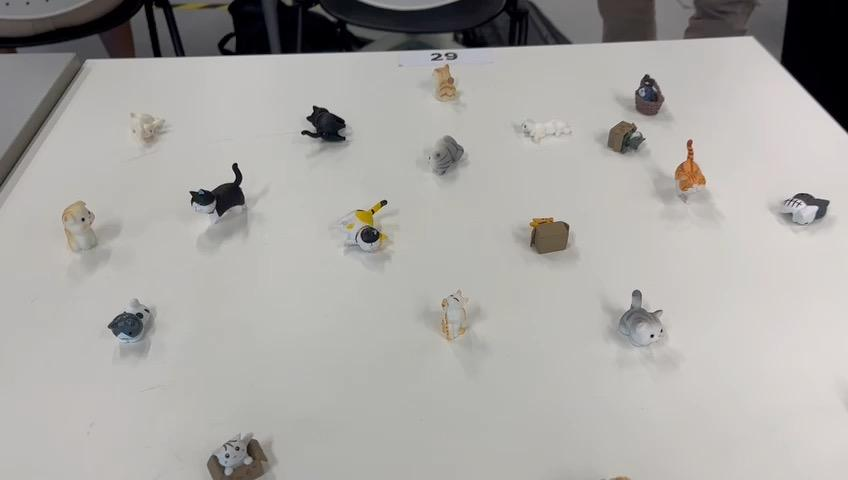pet: (601, 281, 693, 367), (196, 414, 313, 480), (328, 201, 414, 268), (291, 96, 369, 167), (63, 171, 117, 265), (96, 291, 164, 364), (181, 169, 269, 223), (763, 161, 828, 229), (506, 204, 595, 253), (663, 134, 713, 206), (588, 111, 649, 167), (431, 49, 475, 126), (511, 114, 583, 161), (618, 61, 673, 121), (428, 294, 490, 347), (411, 131, 460, 193), (121, 124, 183, 167)
